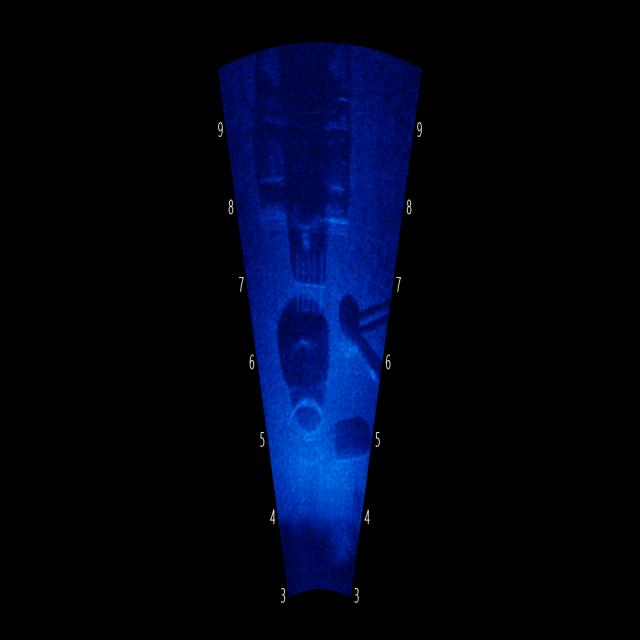circle: (278, 354, 329, 488)
square: (248, 54, 362, 239)
